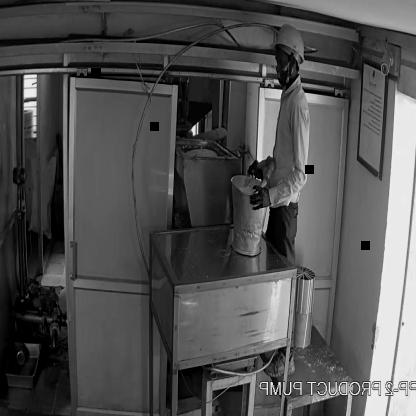helmet: (269, 25, 306, 62)
